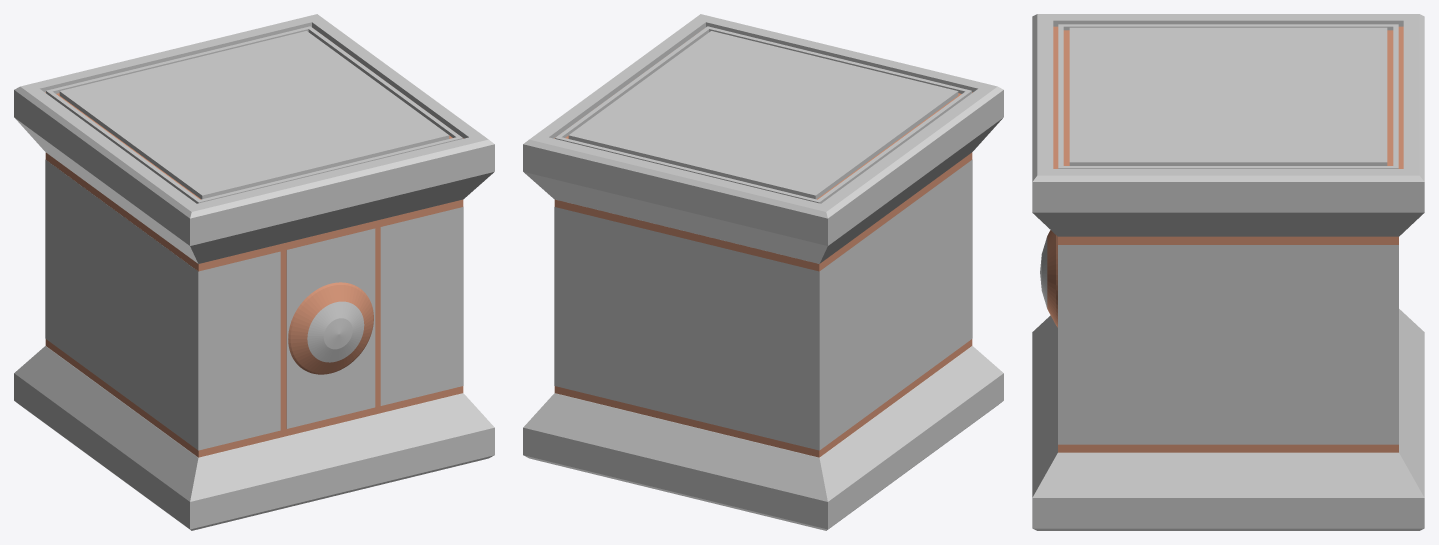
Rendered from Basic4_orig.fbx.
3 views of the same model, side by side, from view 1: azimuth 30°, elevation 25°; view 2: azimuth 150°, elevation 25°; view 3: azimuth 270°, elevation 25° (orthographic). The views are drawn at different scales.
Parts seen in each view (by area): view 1: Cube.009; view 2: Cube.009; view 3: Cube.009.
Boxes of the visible parts, x1=… form: Cube.009: x1=14, y1=14, x2=494, y2=530; Cube.009: x1=523, y1=14, x2=1003, y2=530; Cube.009: x1=1032, y1=14, x2=1424, y2=530.
Bounding box in the file's own units: 100 × 100 × 100.
